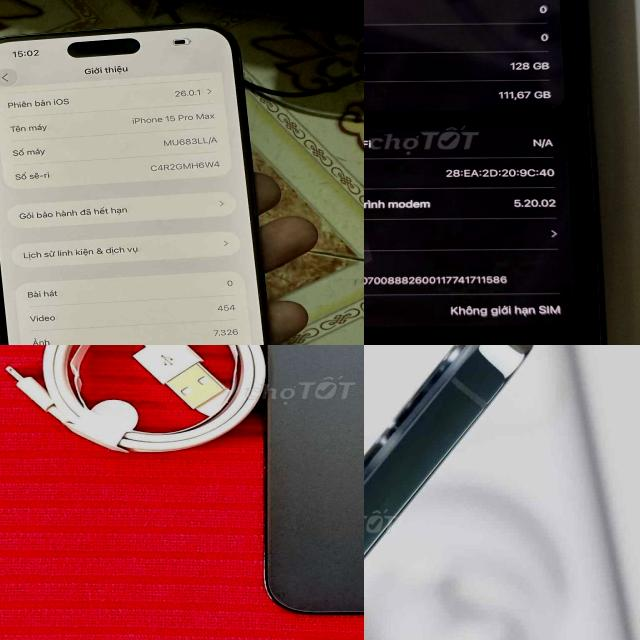gen_12_13: (364, 0, 618, 345), (364, 345, 534, 640), (259, 345, 364, 631)
gen_15: (0, 18, 281, 345)
